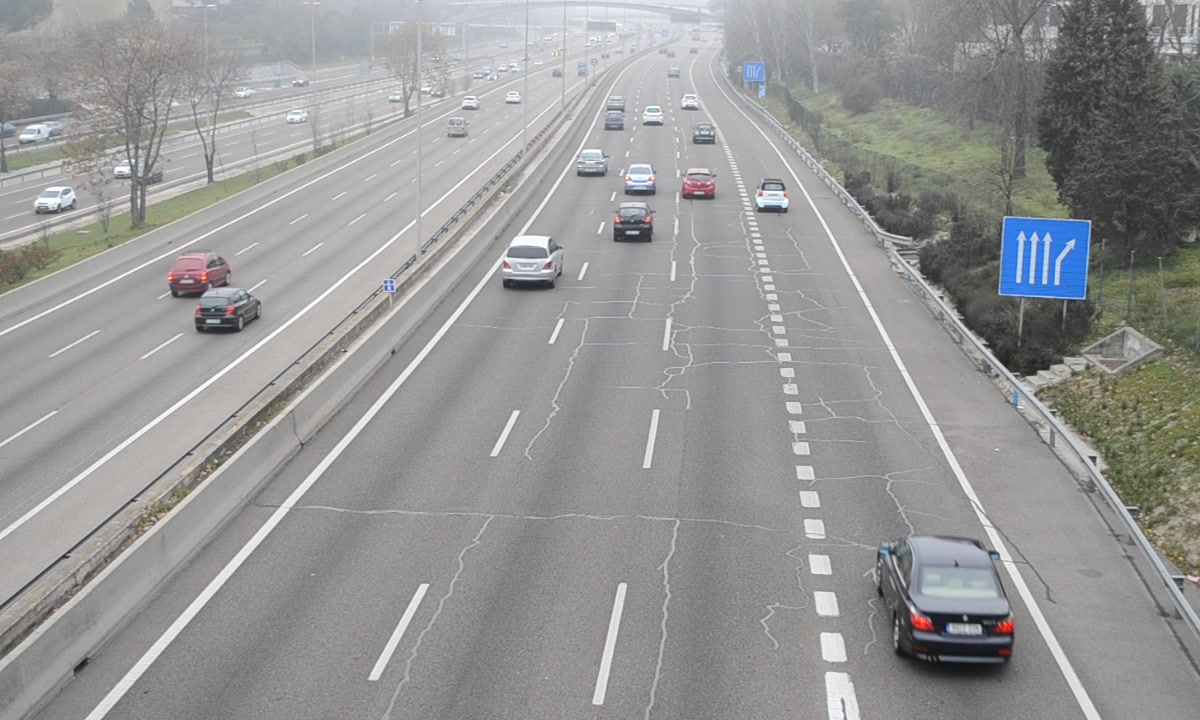car: (876, 535, 1015, 665), (498, 234, 563, 284), (612, 201, 655, 244), (756, 177, 790, 214), (682, 168, 717, 201), (624, 163, 657, 196), (575, 149, 609, 178), (691, 121, 716, 146), (602, 111, 627, 132)
